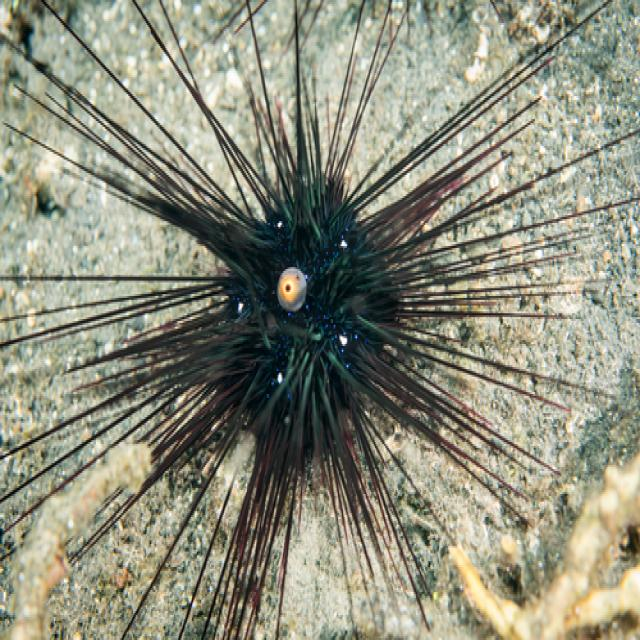Urchin: (9, 14, 609, 604)
